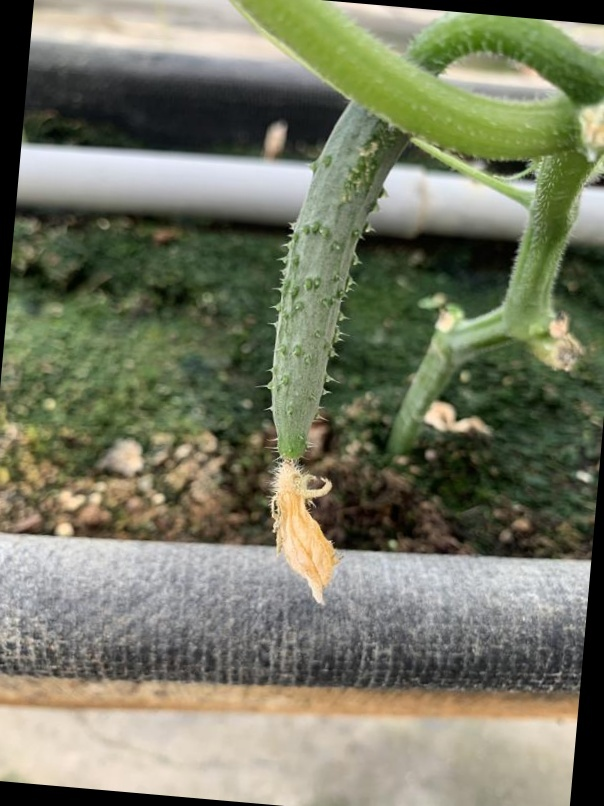bear: (220, 194, 398, 619)
growth: (250, 91, 412, 470)
